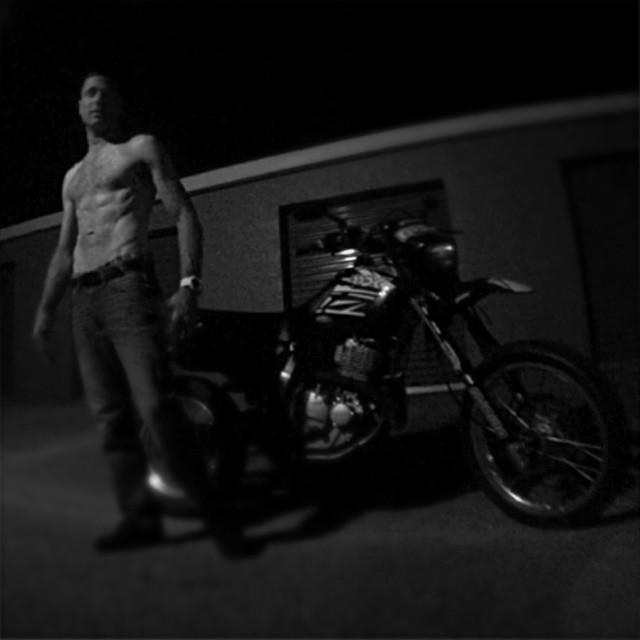Motorbike: (162, 214, 618, 540)
People: (33, 45, 271, 617)
